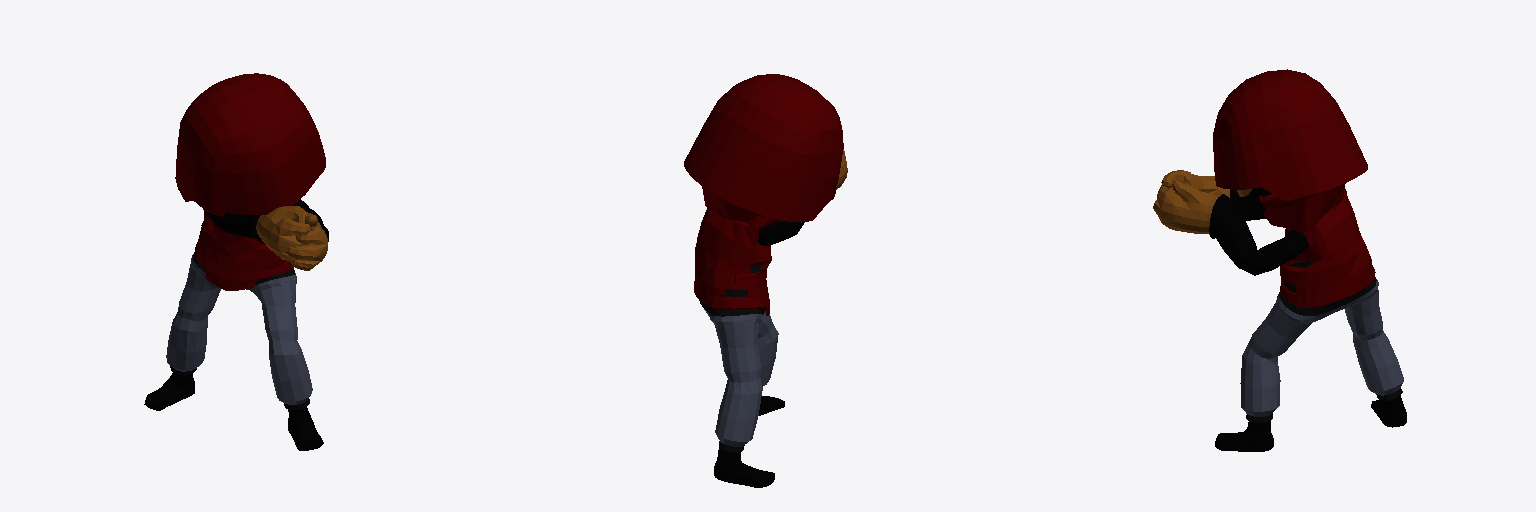
File: EnemySoldierPistolAim.obj
The picture shows the model from 3 angles: view 1: azimuth 30°, elevation 25°; view 2: azimuth 150°, elevation 25°; view 3: azimuth 270°, elevation 25°; orthographic projection.
Parts seen in each view (by area): view 1: EnemySoldierPistolAim, Character_Enemy_Head; view 2: Character_Enemy_Head, EnemySoldierPistolAim; view 3: EnemySoldierPistolAim, Character_Enemy_Head.
Boxes of the visible parts, x1=… form: EnemySoldierPistolAim: x1=144, y1=199, x2=328, y2=450; Character_Enemy_Head: x1=175, y1=73, x2=325, y2=216; Character_Enemy_Head: x1=684, y1=74, x2=843, y2=231; EnemySoldierPistolAim: x1=694, y1=149, x2=847, y2=487; EnemySoldierPistolAim: x1=1153, y1=170, x2=1406, y2=451; Character_Enemy_Head: x1=1213, y1=69, x2=1367, y2=232.
Size of the model in its own units: 0.8437 by 2.18 by 1.42.